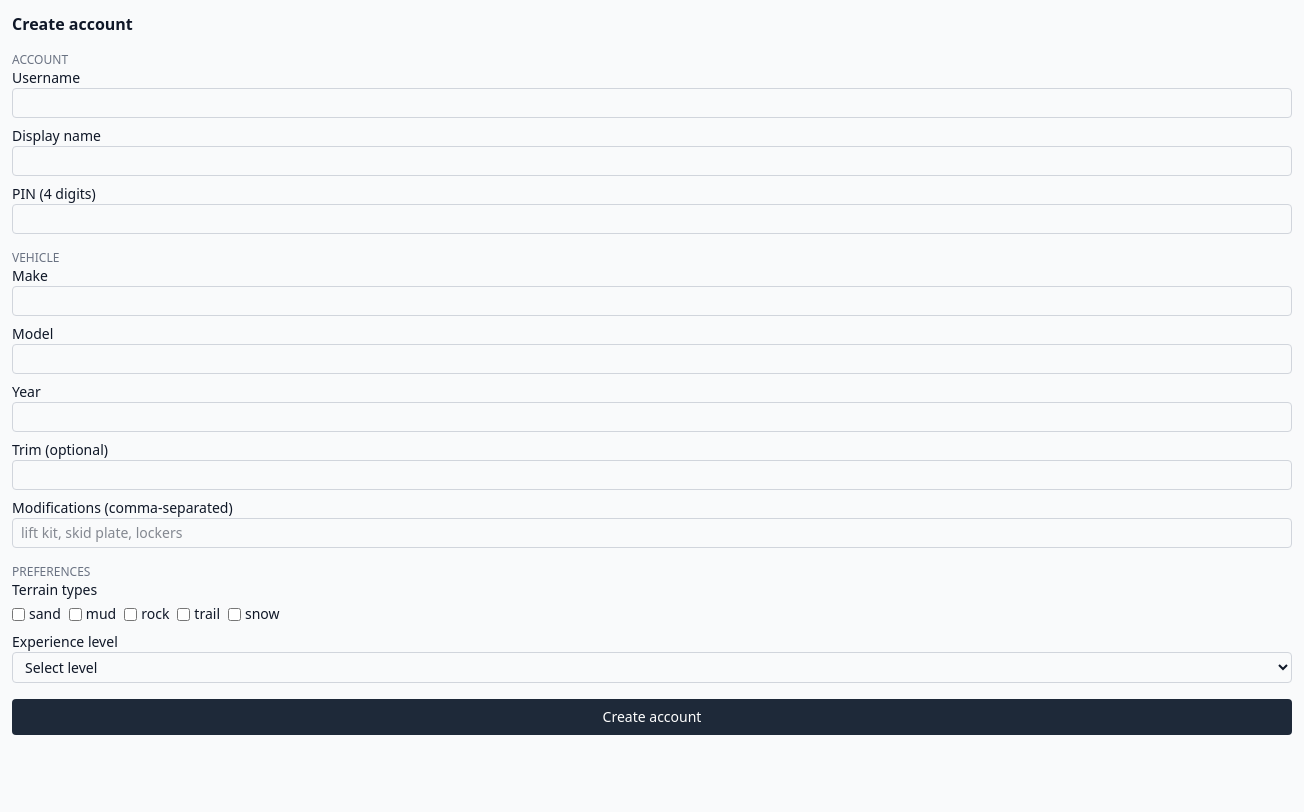
RegisterForm › username availability check › shows "taken" when username is not available
The width and height of the screenshot is (1304, 812).
In the field labelled "Username": [652, 103] box [12,88,1292,118], type "takenuser"
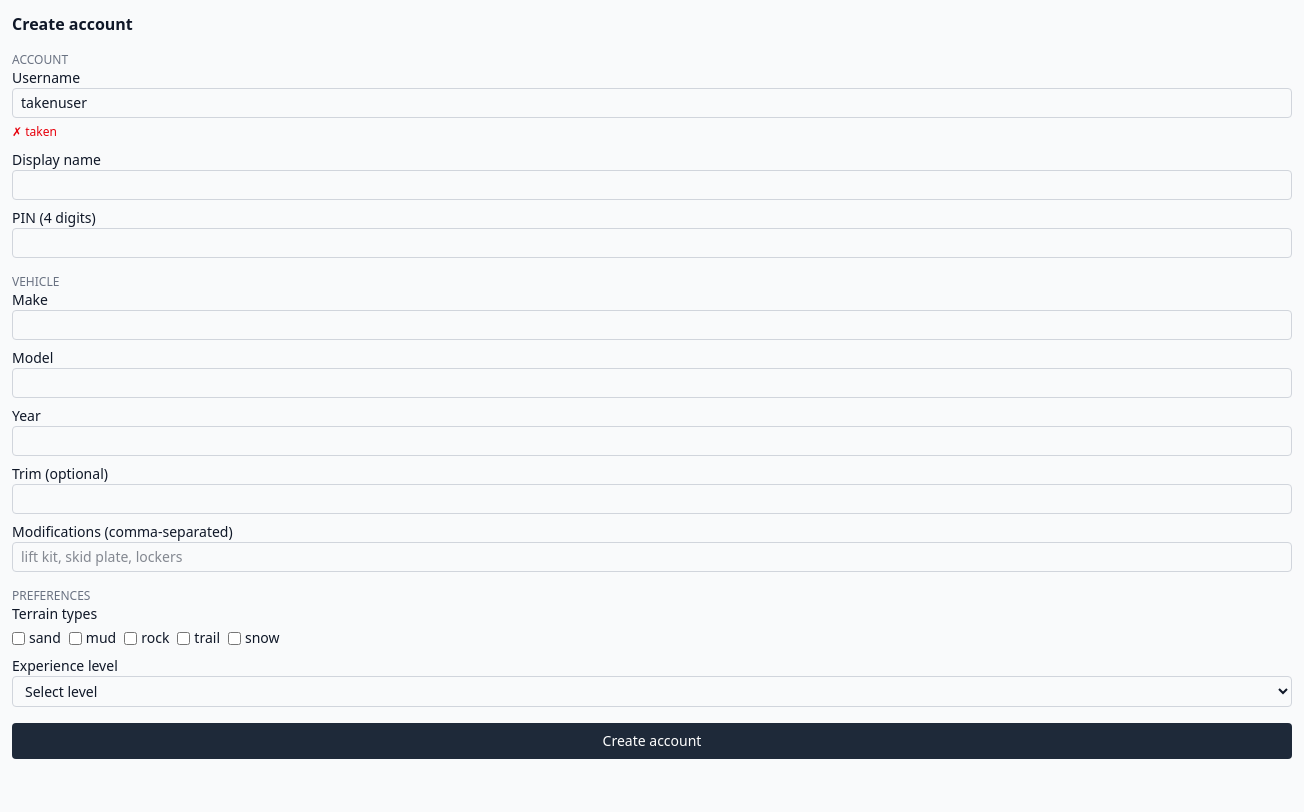
Check: the text "✗ taken" is shown, box [12,123,57,140]
